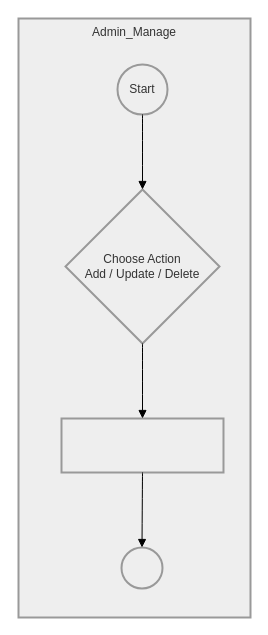
Some shapes in this 268 by 635 pixel diagram are drawn without their labels. The shapes that lost their labels are listed below. From the top down, each one's centre as x and y in pixels, then its label:
At (142,445): "Process Action".
At (141,567): "End".
